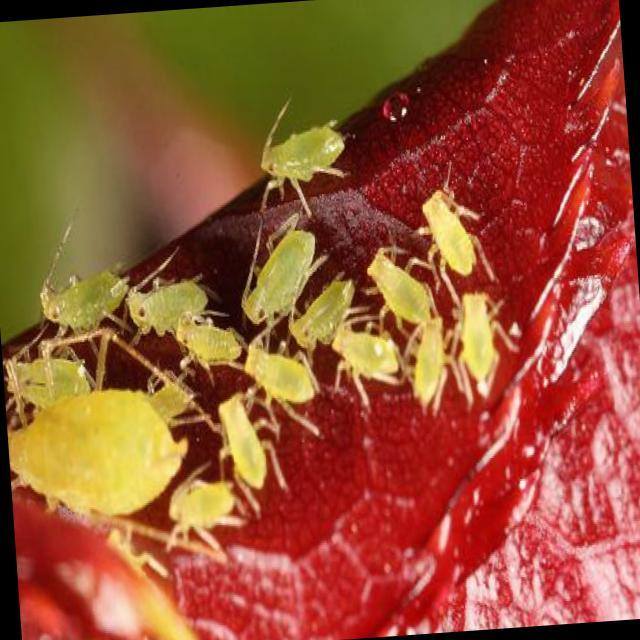aphid: (6, 322, 204, 534), (215, 193, 338, 328), (198, 377, 280, 528), (248, 121, 374, 210), (226, 336, 336, 437), (158, 452, 258, 562), (116, 253, 224, 354), (413, 172, 495, 296), (445, 286, 521, 410), (358, 232, 440, 335), (30, 262, 126, 349), (172, 303, 246, 378)
